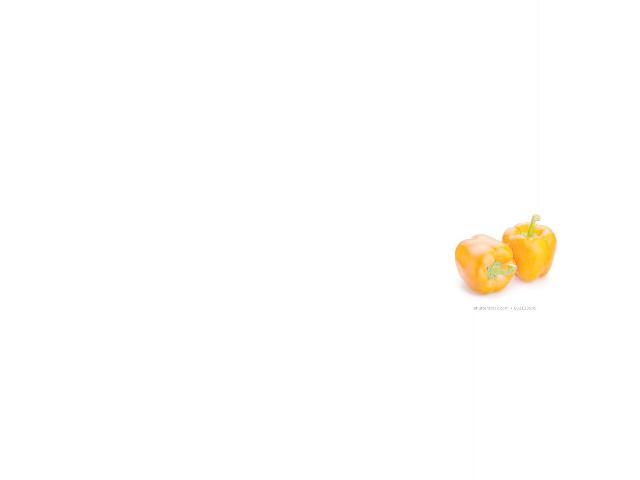bell_pepper: (453, 232, 518, 300)
